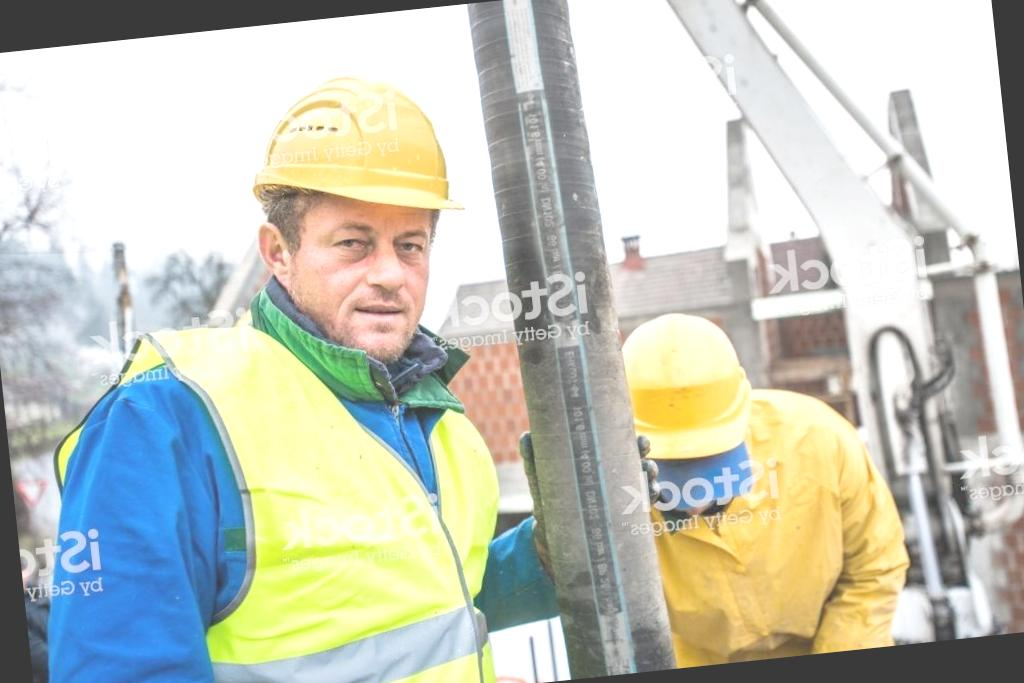helmet: (230, 56, 476, 237)
person: (0, 45, 530, 683)
